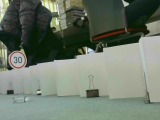speed_30: (7, 50, 28, 70)
